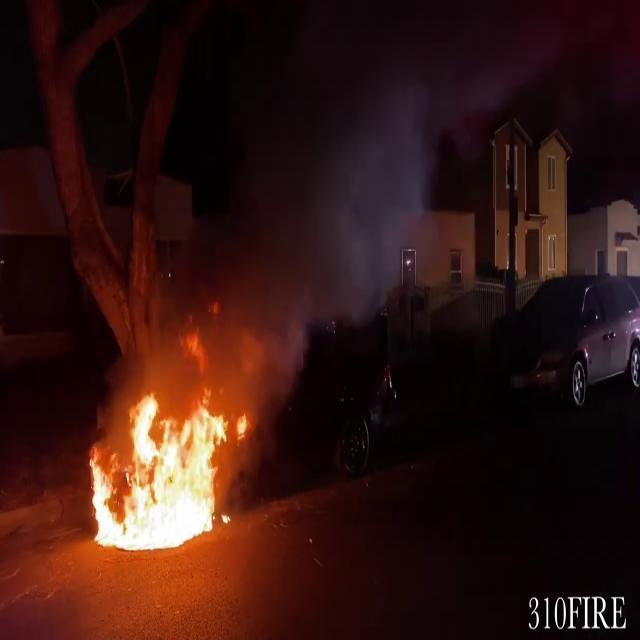Fire: (89, 386, 233, 551)
Smoke: (170, 0, 575, 384)
